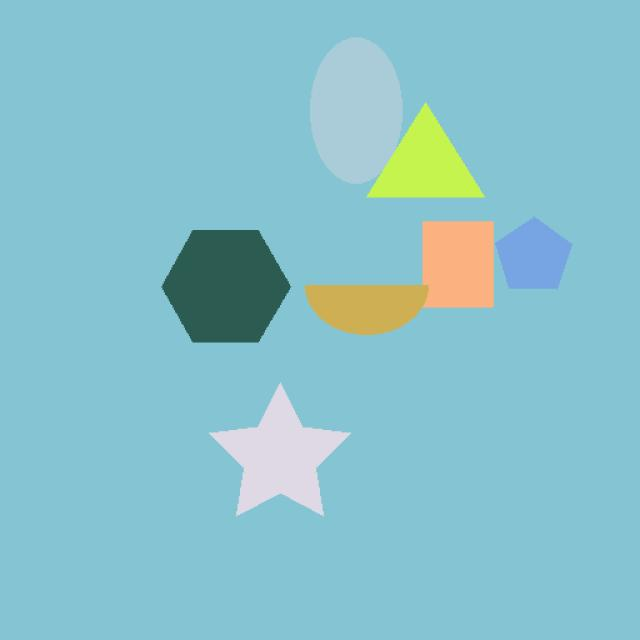Circle: (308, 33, 410, 192)
Hexagon: (142, 211, 301, 357)
Pentagon: (486, 208, 589, 316)
Semicircle: (303, 262, 443, 342)
Star: (203, 383, 382, 539)
Triangle: (343, 99, 496, 211)
square: (411, 210, 506, 318)
